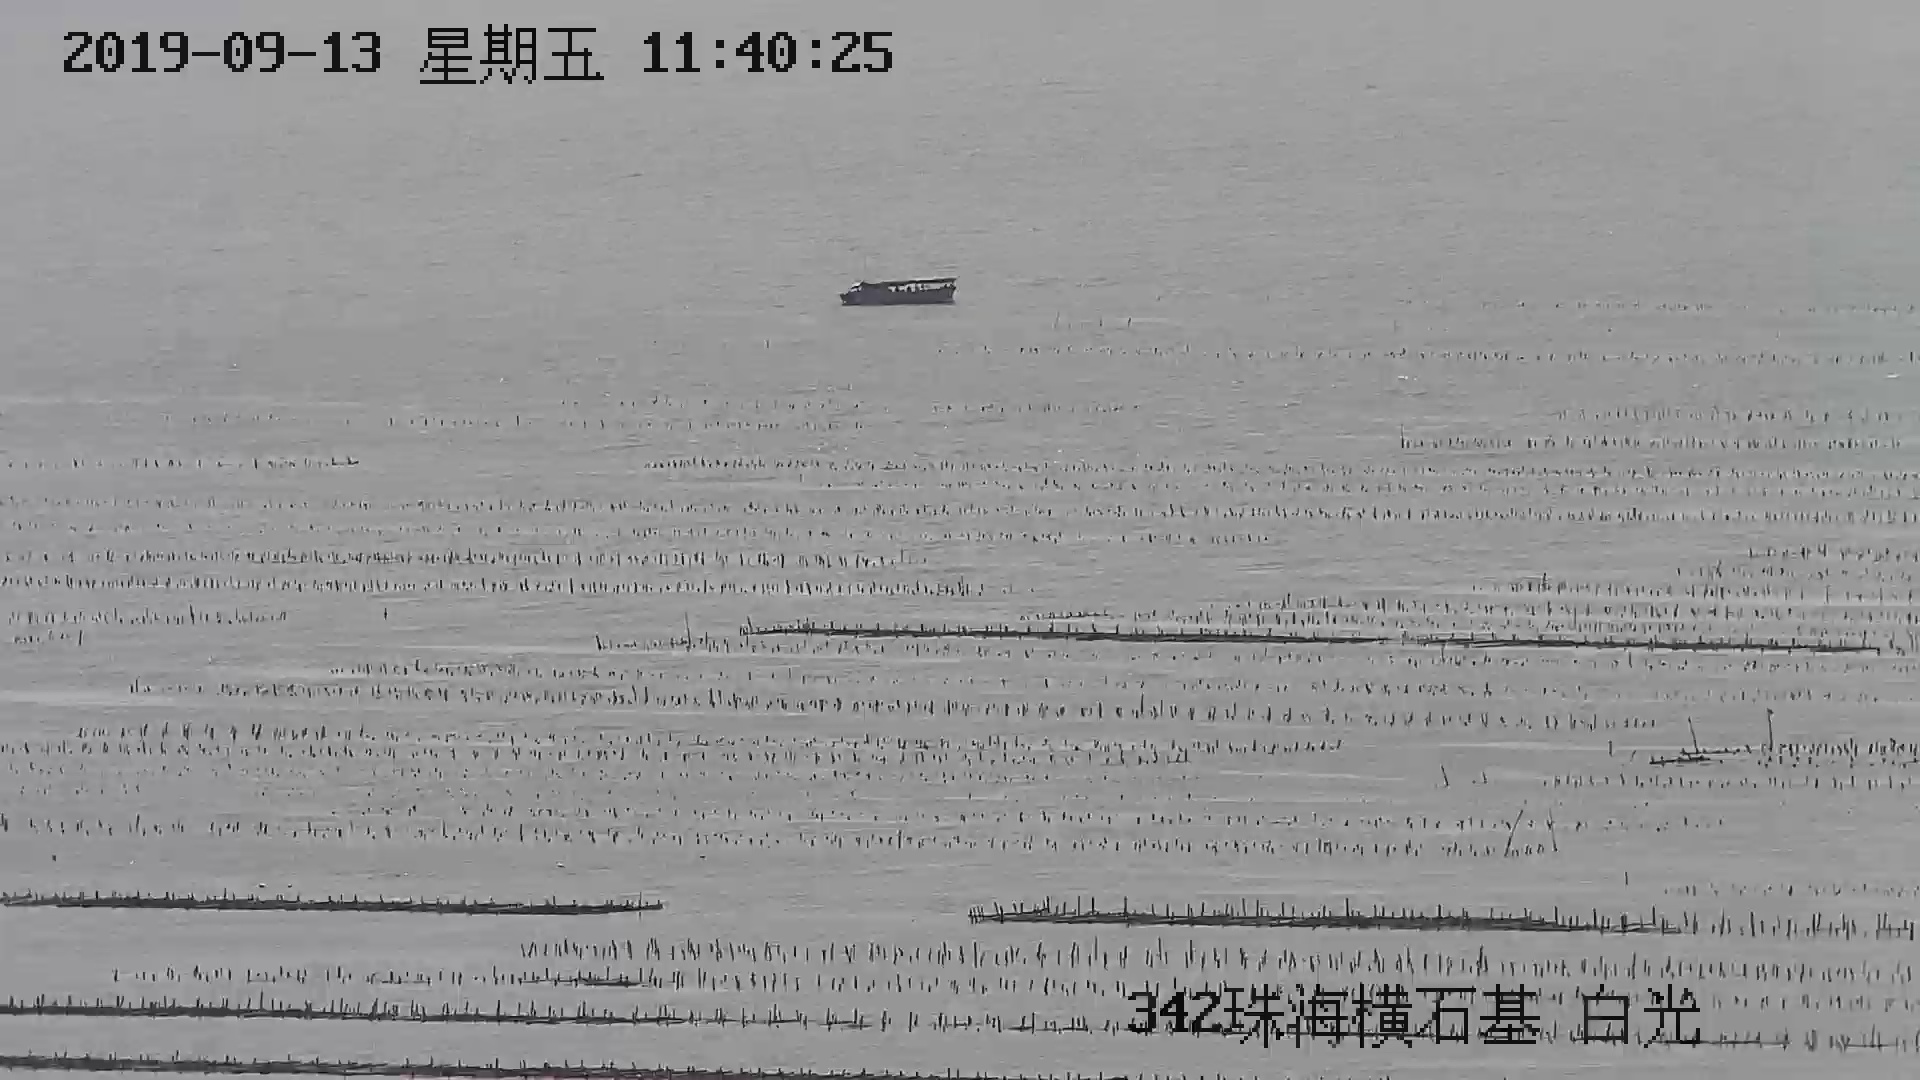ship: (833, 277, 959, 307)
